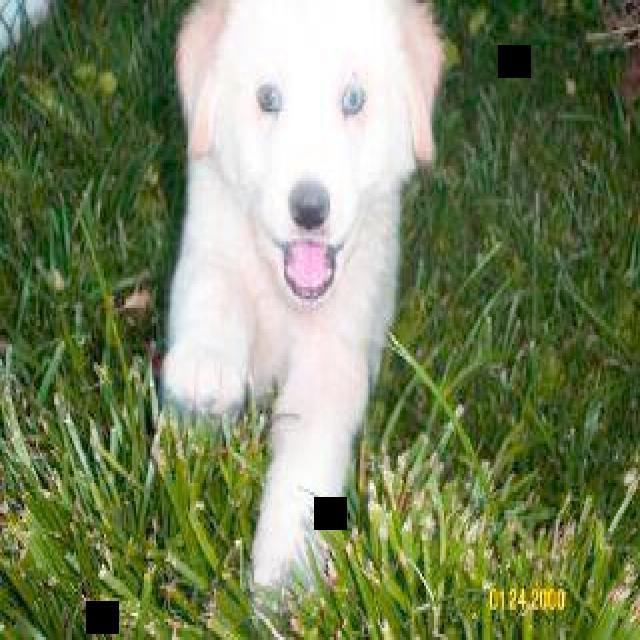puppy-dog: (164, 1, 446, 600)
